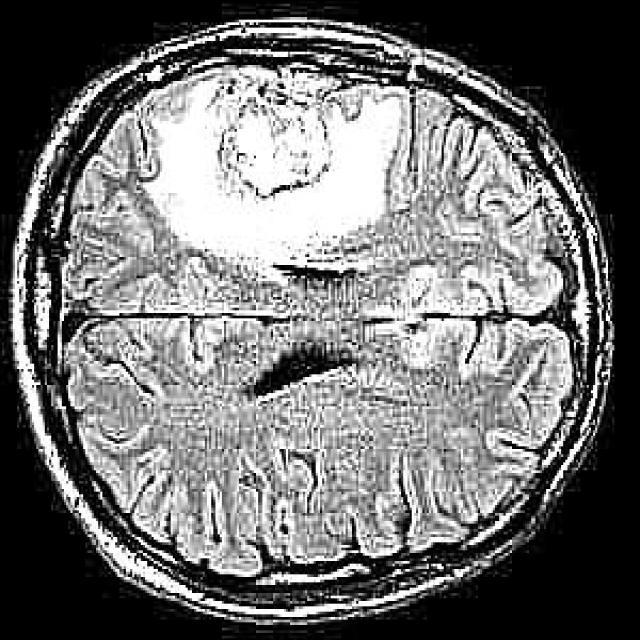tumor: (143, 64, 410, 267)
